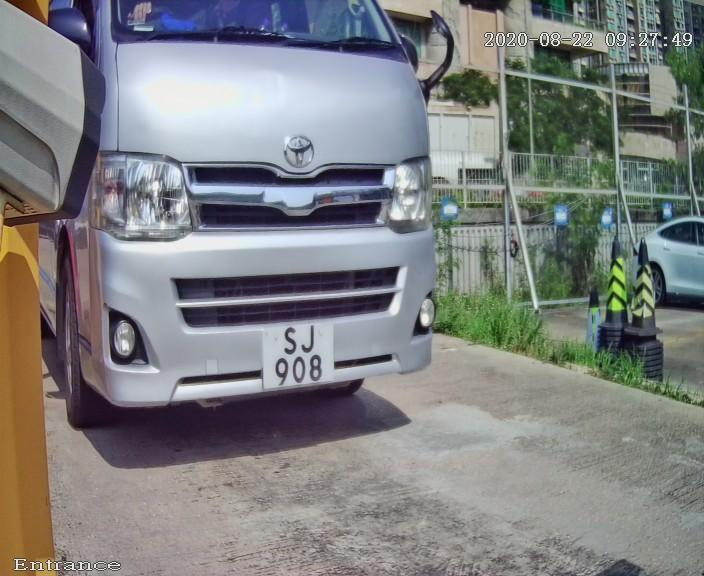License Plate: (241, 295, 360, 398)
